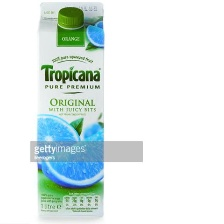carton: (32, 0, 111, 220)
